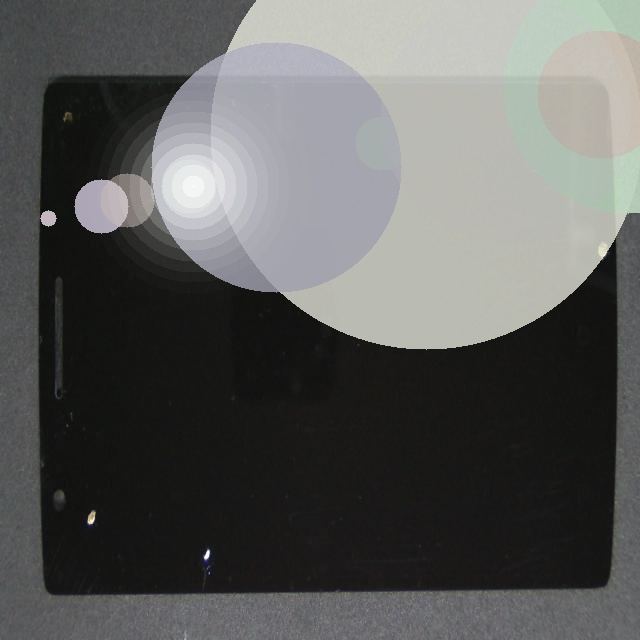stain: (112, 253, 308, 640), (56, 219, 128, 640)
